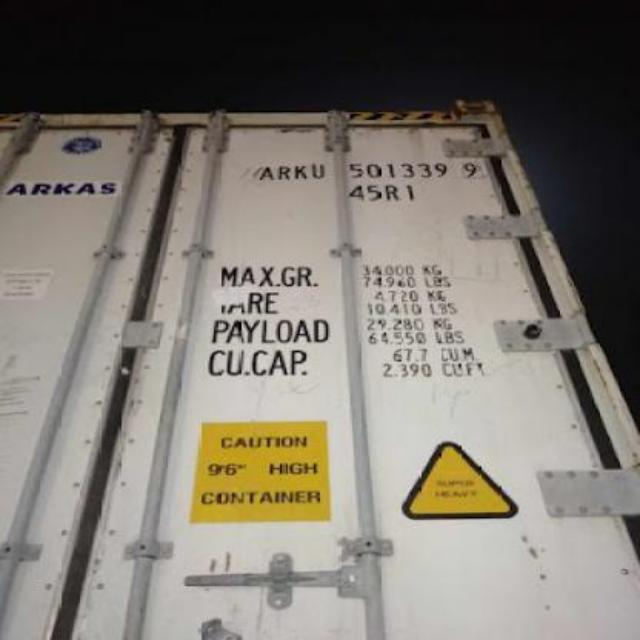0: (366, 163, 382, 181)
1: (386, 163, 398, 179)
3: (418, 161, 434, 179), (402, 160, 414, 182)
5: (346, 161, 362, 179)
9: (462, 161, 478, 179), (432, 162, 448, 178)
A: (257, 164, 273, 182)
K: (294, 164, 310, 180)
R: (278, 166, 292, 182)
U: (308, 161, 328, 179)
